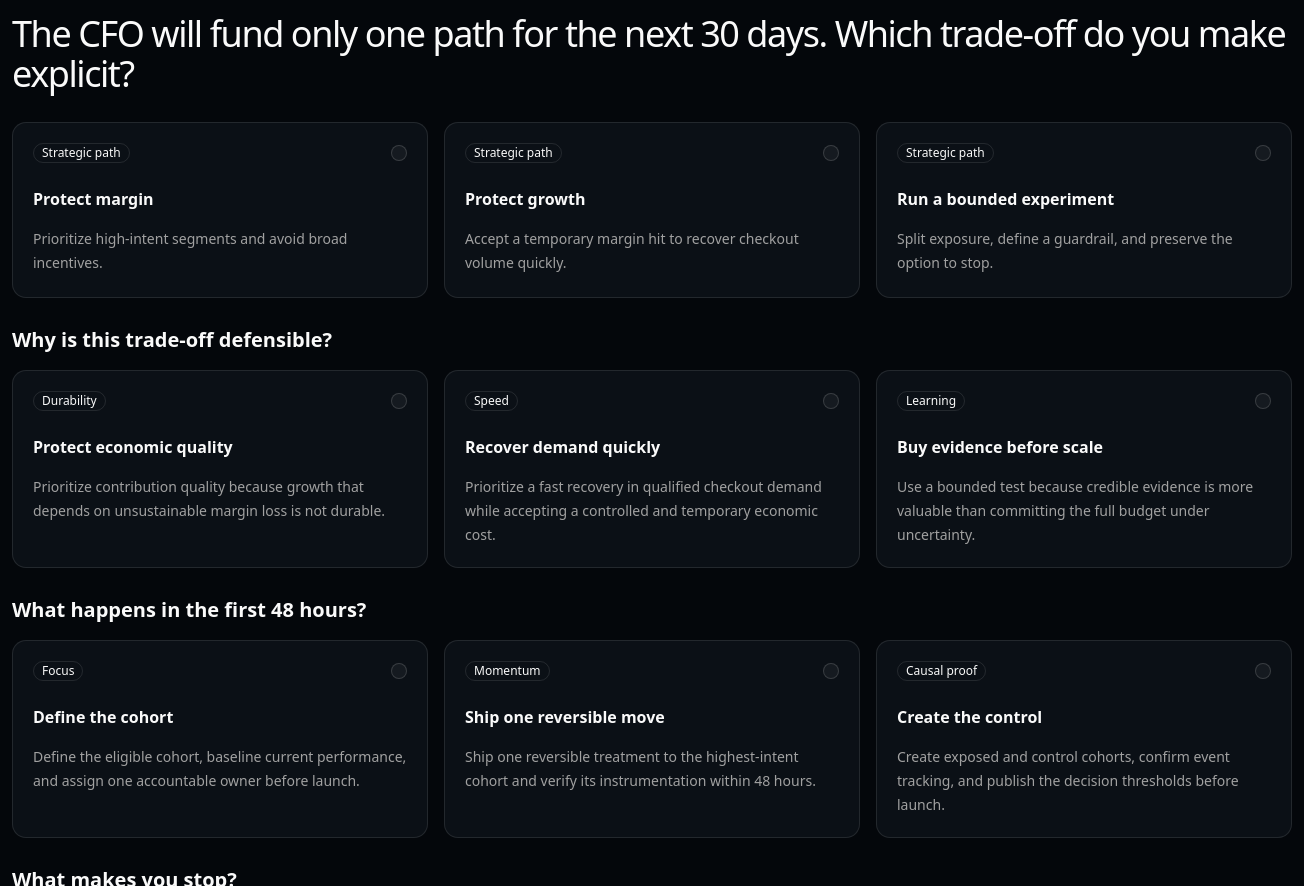
Test: DecisionForm › refreshes the saved session when the evaluation API returns an error
The width and height of the screenshot is (1304, 886).
What coordinates should you click on to do the following:
click the 1st radio button named "Protect margin"
I would click on:
 (399, 153)
Its box is [391, 145, 407, 161].
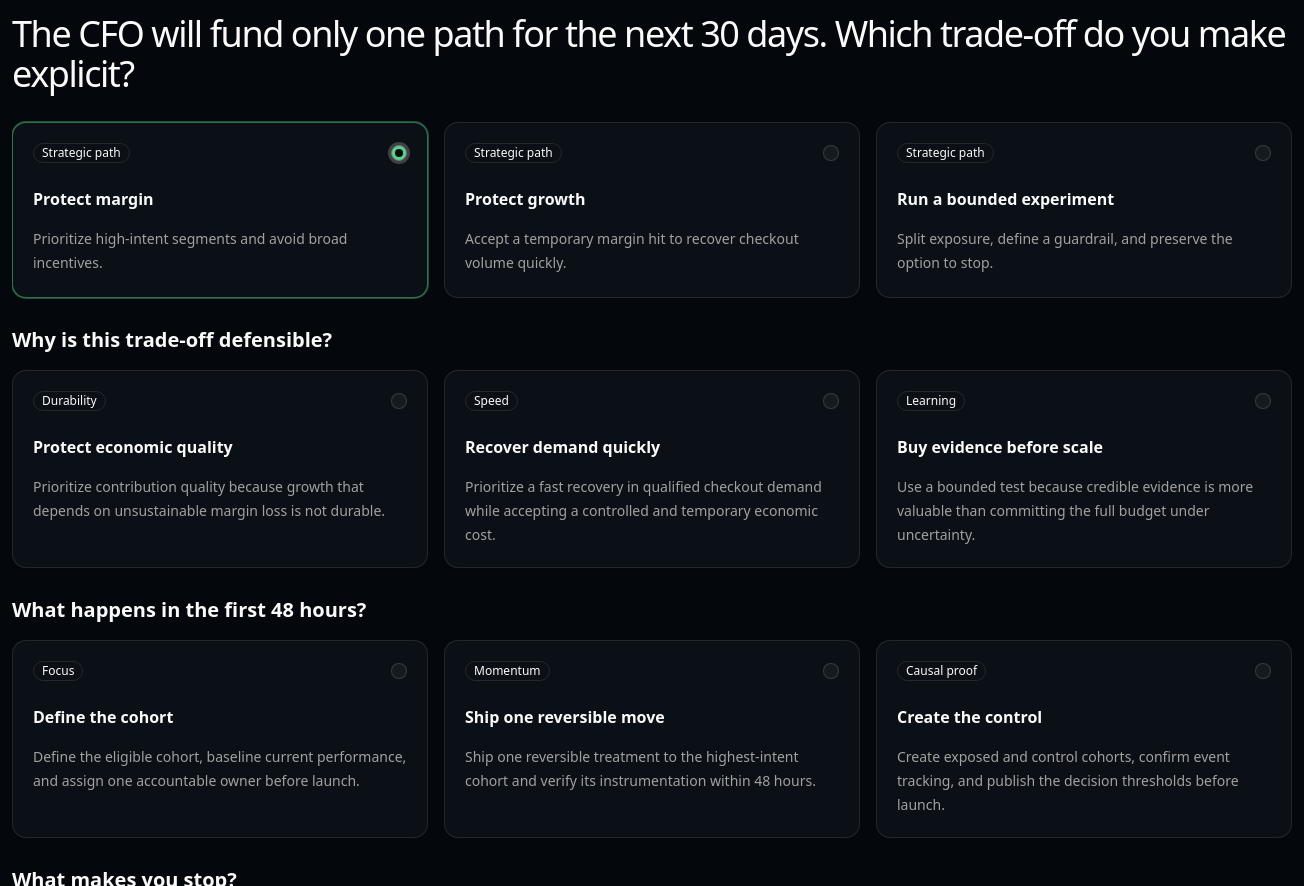
What coordinates should you click on to do the following:
click the radio button named "Protect economic quality" in the row of "Durability"
I would click on:
 (399, 401)
Its box is [391, 393, 407, 409].
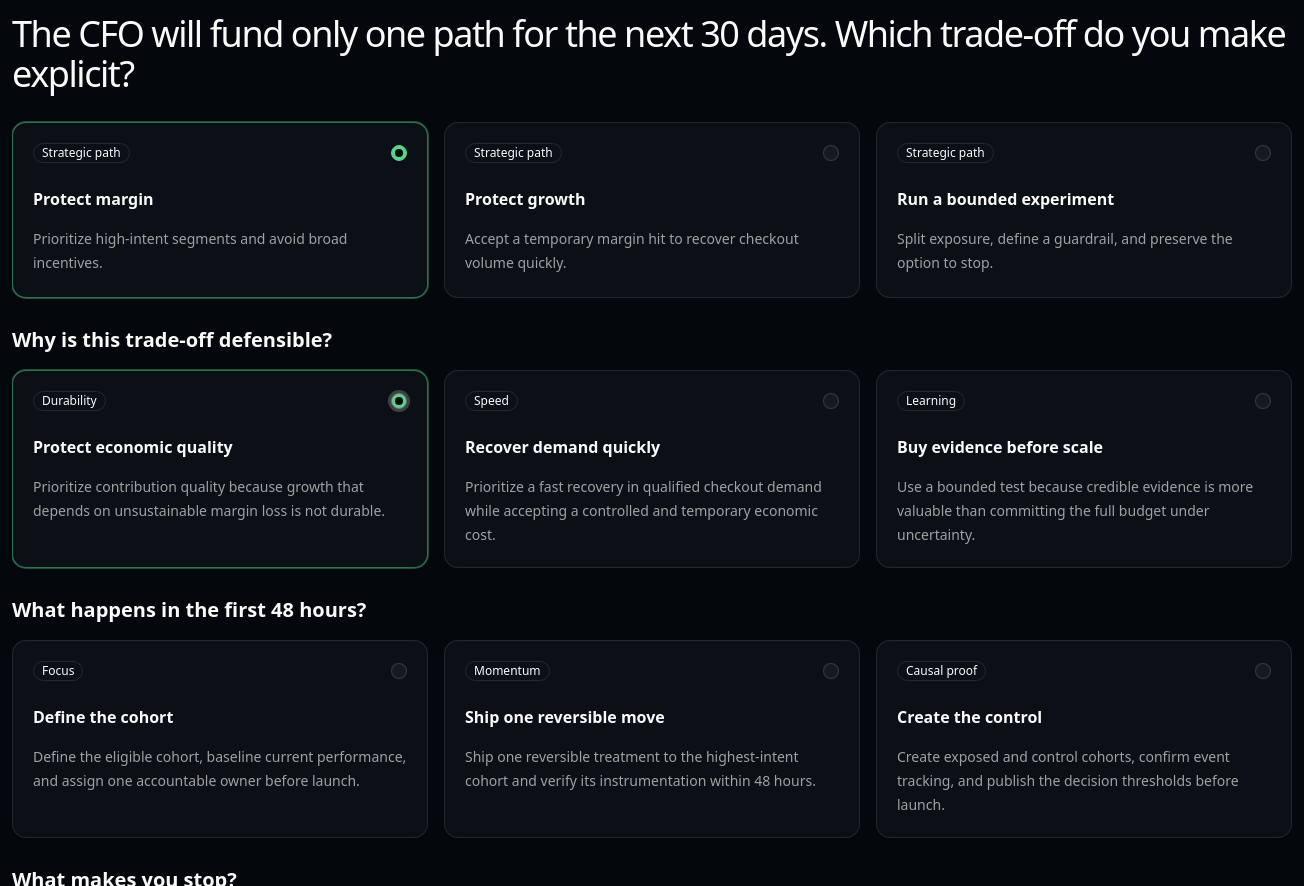
What coordinates should you click on to do the following:
click the radio button named "Define the cohort" in the row of "Focus"
I would click on:
 (399, 671)
Its box is [391, 663, 407, 679].
(page scrolled)
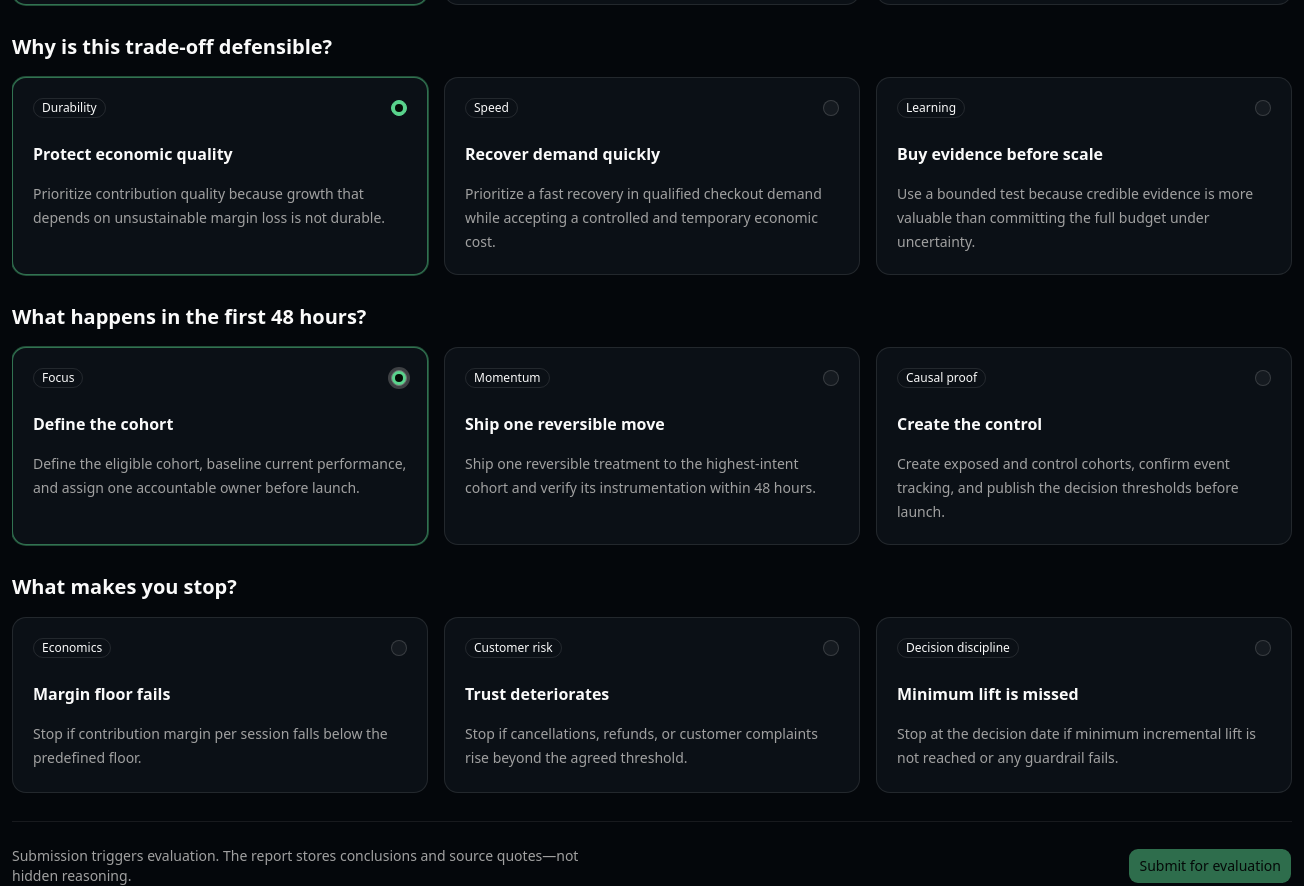
What coordinates should you click on to do the following:
click the radio button named "Margin floor fails" in the row of "Economics"
I would click on:
 (399, 648)
Its box is [391, 640, 407, 656].
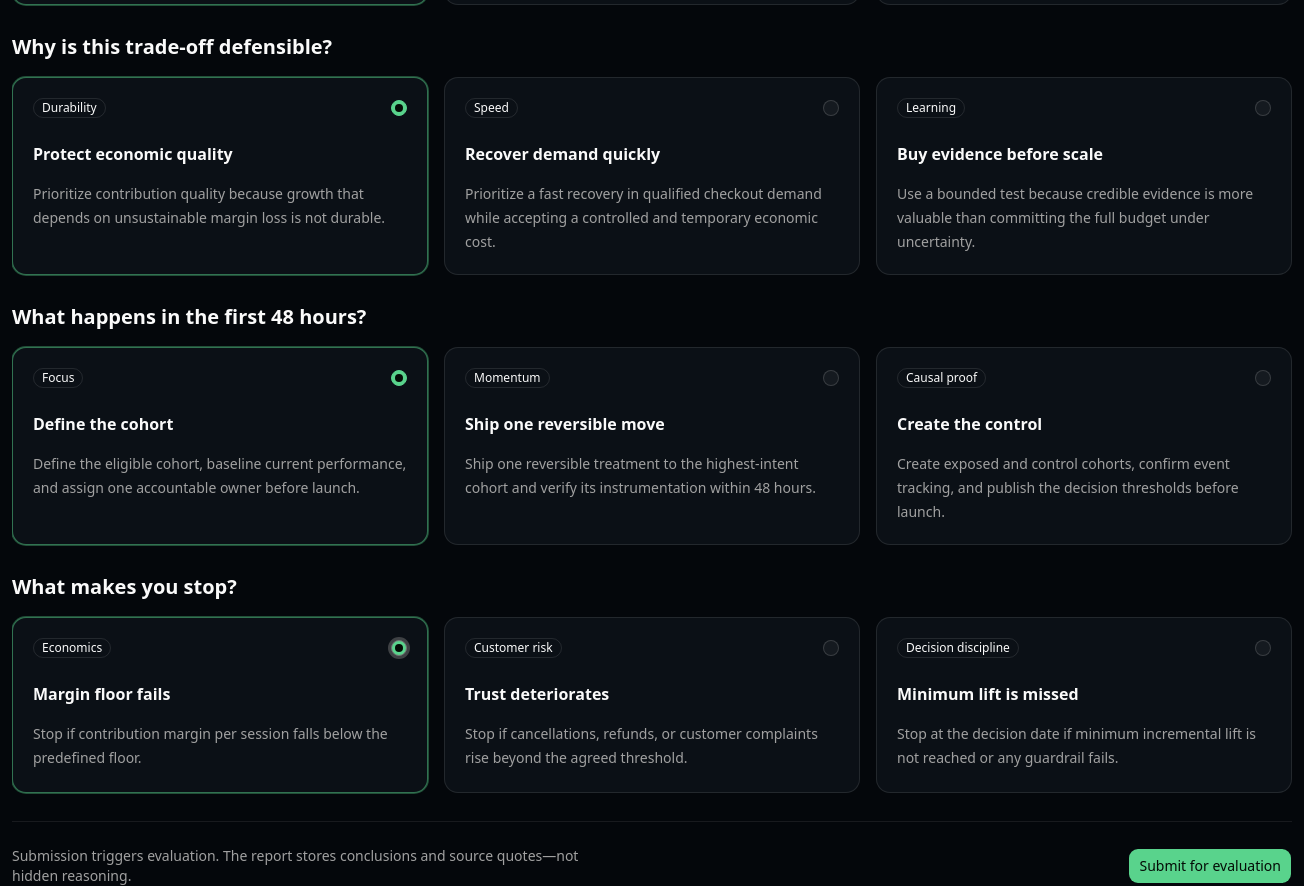
What coordinates should you click on to do the following:
click the button "Submit for evaluation"
I would click on:
 (1210, 866)
Its box is [1128, 848, 1292, 884].
(page scrolled)
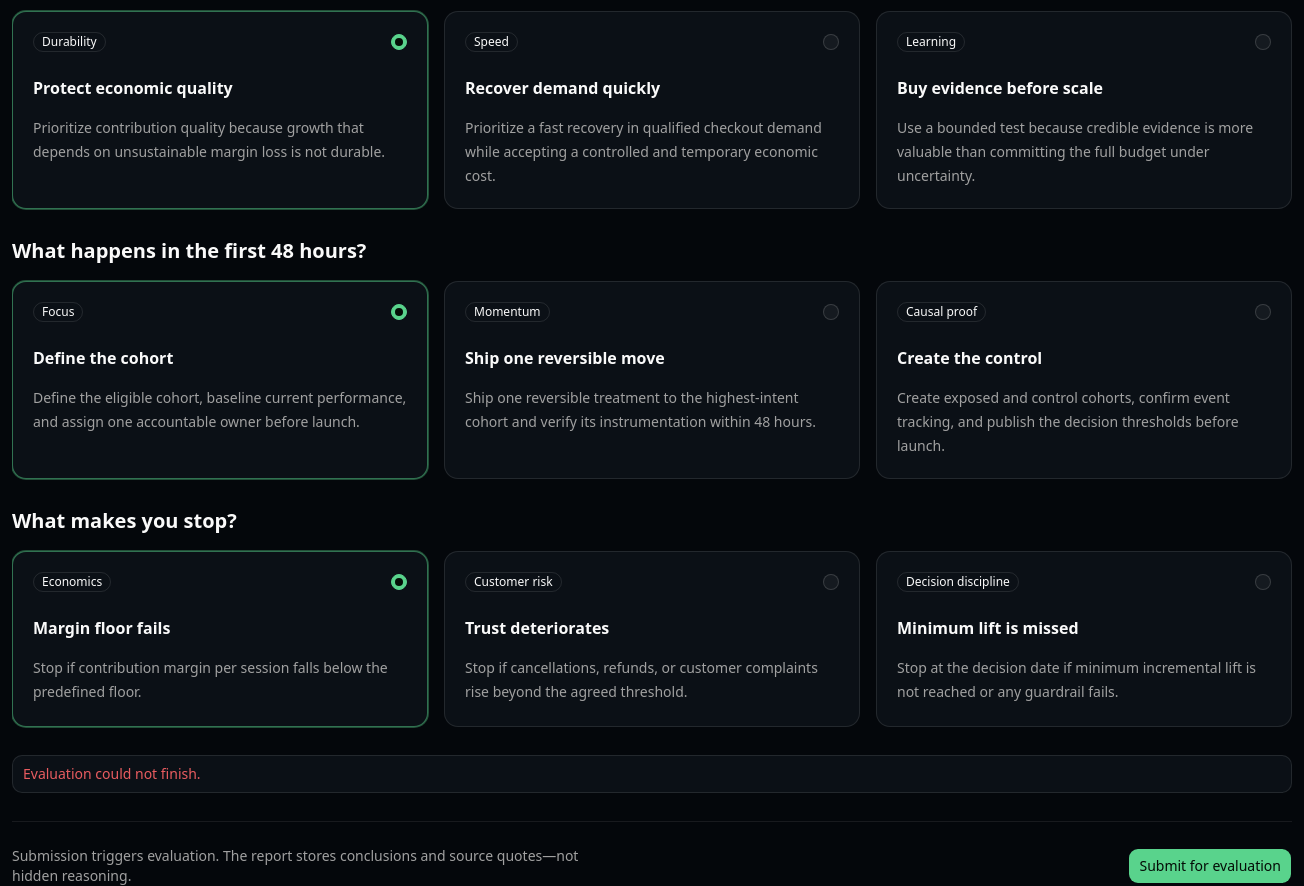
Check: the button "Submit for evaluation" is enabled, box [1128, 848, 1292, 884]
Check: the message reads "Evaluation could not finish.", box [23, 764, 201, 783]
